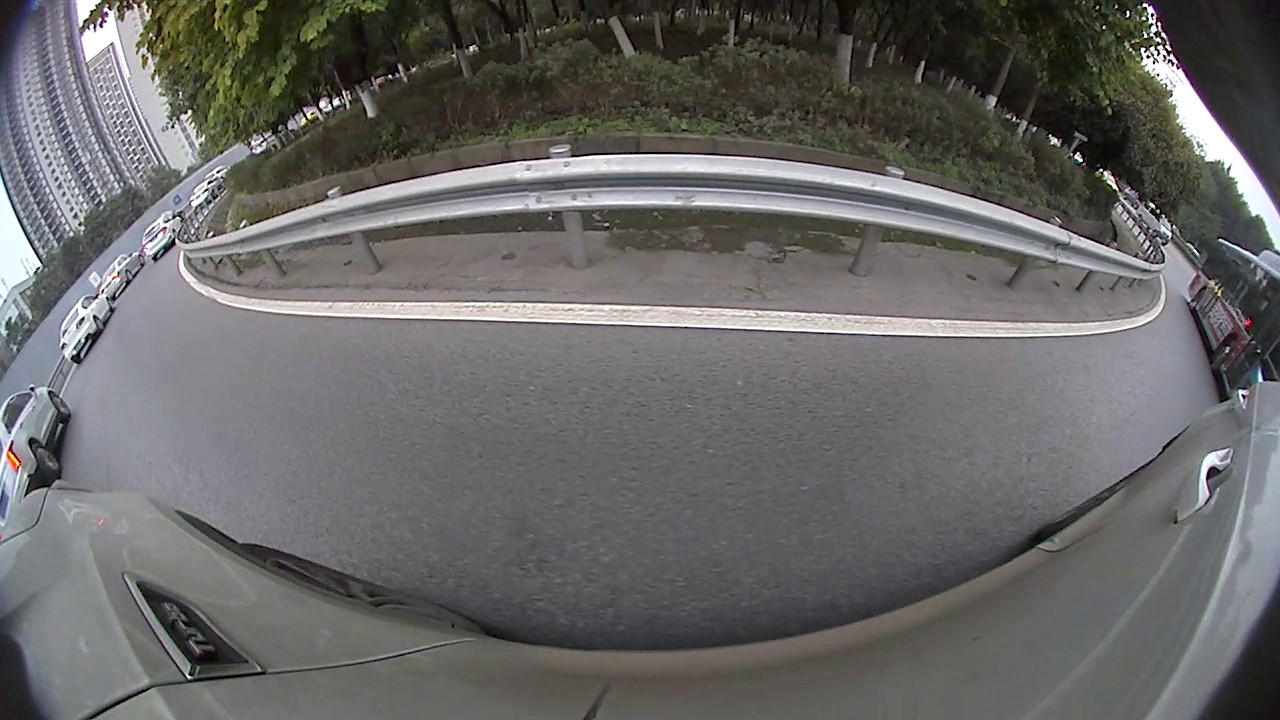bus: (1182, 234, 1279, 407)
car: (1, 384, 72, 517), (55, 289, 116, 366), (97, 244, 146, 302), (139, 207, 187, 261), (1131, 201, 1174, 244)
front: (1209, 336, 1237, 371), (46, 391, 73, 421), (104, 296, 117, 311)
rear: (30, 443, 63, 477), (1189, 286, 1205, 310), (92, 315, 108, 332)
